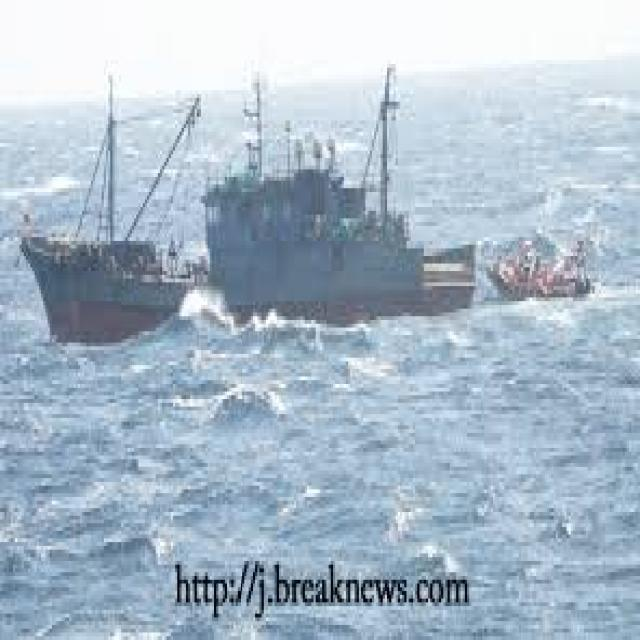Ship: (6, 50, 488, 366)
